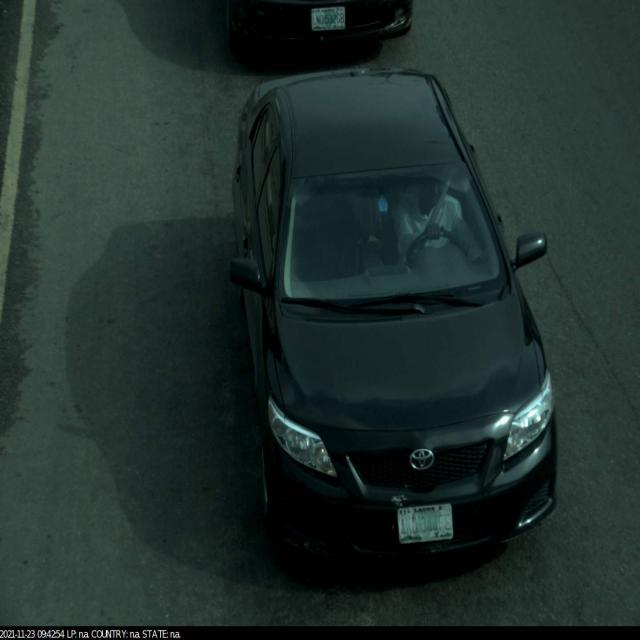windshield: (276, 154, 519, 329)
